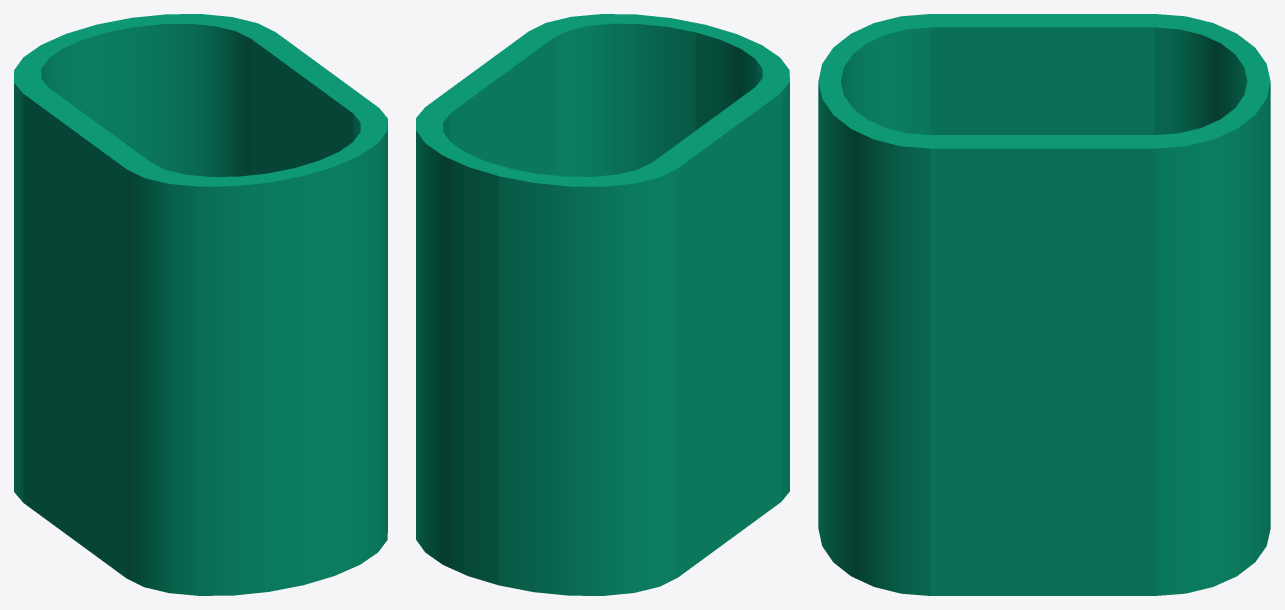
The model's file is strange cup.fbx.
The picture shows the model from 3 angles, left to right: view 1: azimuth 30°, elevation 25°; view 2: azimuth 150°, elevation 25°; view 3: azimuth 270°, elevation 25°; orthographic projection. The views are drawn at different scales.
Visible parts, largest first — view 1: mergedBlocks; view 2: mergedBlocks; view 3: mergedBlocks.
Part boxes in pixels (left/top/right/bottom): mergedBlocks: left=14, top=14, right=387, bottom=595; mergedBlocks: left=416, top=14, right=789, bottom=595; mergedBlocks: left=818, top=14, right=1270, bottom=595.
Size of the model in its own units: 10 by 15.5 by 14.2.
